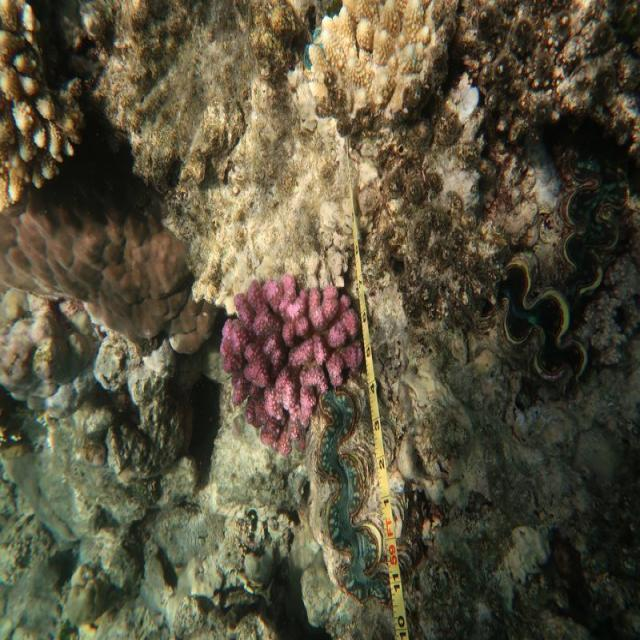Healthy Coral: (214, 264, 375, 462)
